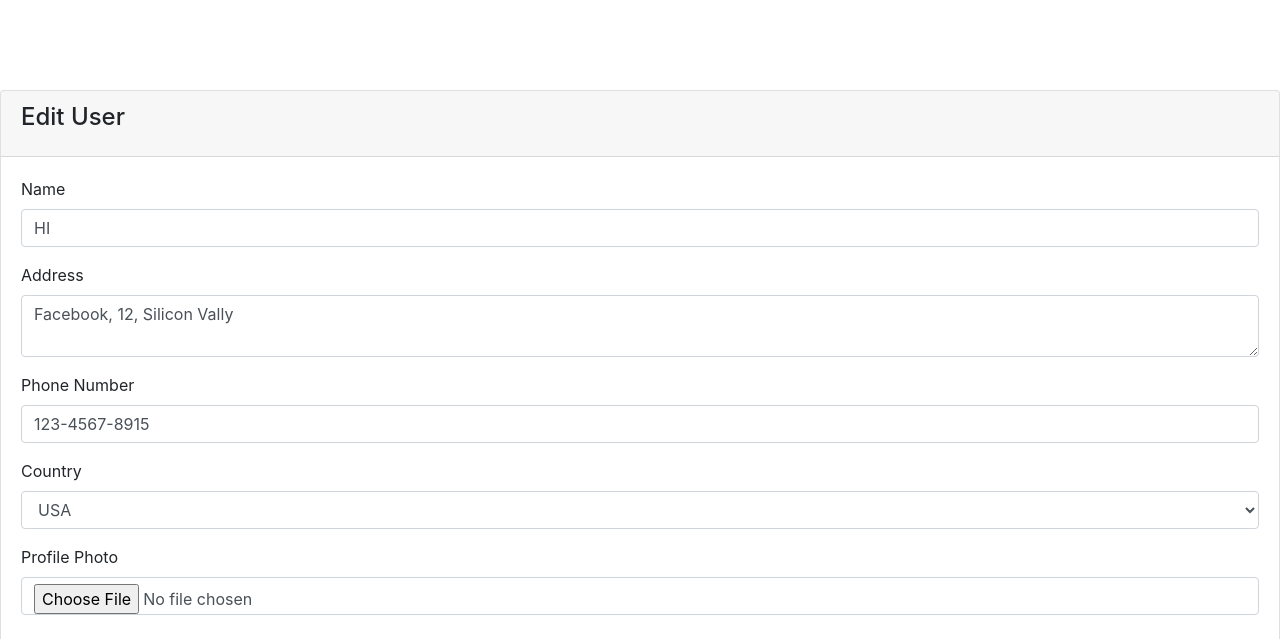
it: User Form Component › validations › should show error when required field is empty
Clear the field named "name" below "Name". click: x=640, y=228
box: [21,209,1259,247]
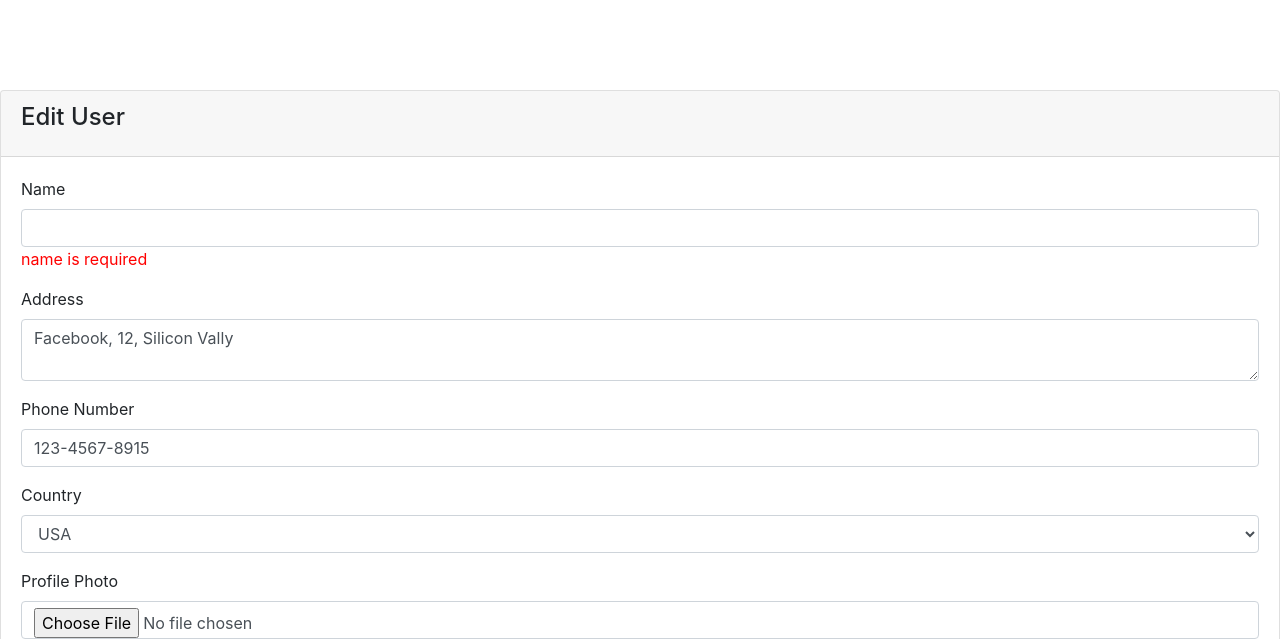
expect the text "name is required" is shown: met, box [21,249,147,269]
